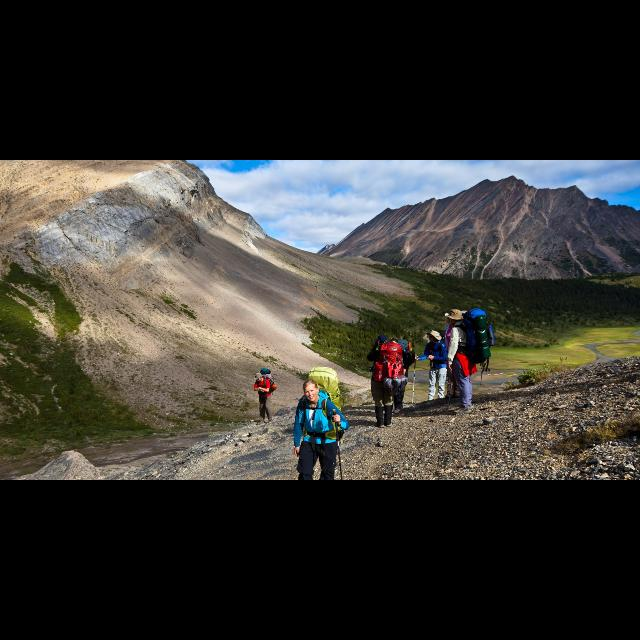head: (303, 378, 321, 402), (449, 310, 461, 326), (448, 313, 462, 325), (377, 335, 389, 347), (429, 332, 439, 342), (398, 340, 406, 350), (257, 375, 263, 383), (402, 336, 410, 342)
person: (444, 308, 496, 414), (365, 333, 409, 429), (414, 329, 451, 405), (442, 310, 471, 402), (380, 336, 410, 414), (392, 331, 420, 407), (252, 366, 280, 426)
